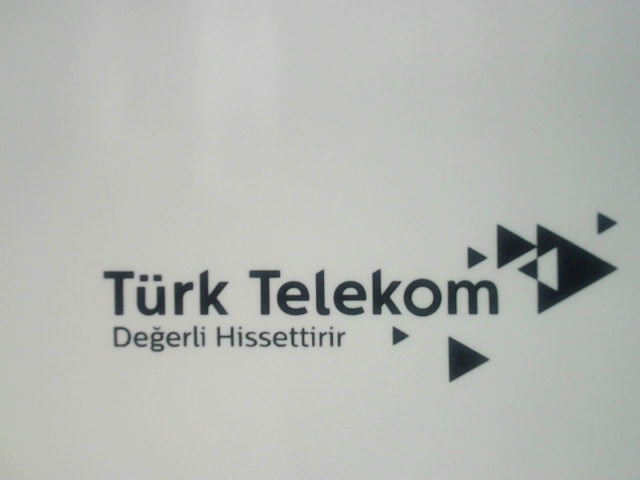AQ_TURKTelekom: (101, 210, 621, 388)
